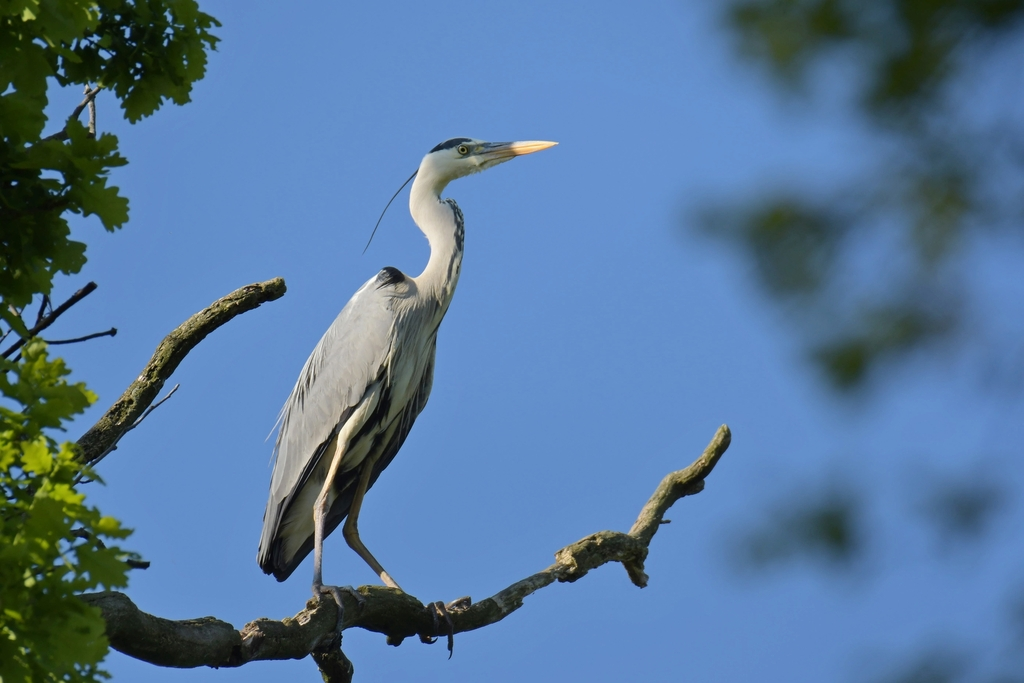heron: (255, 132, 560, 616)
